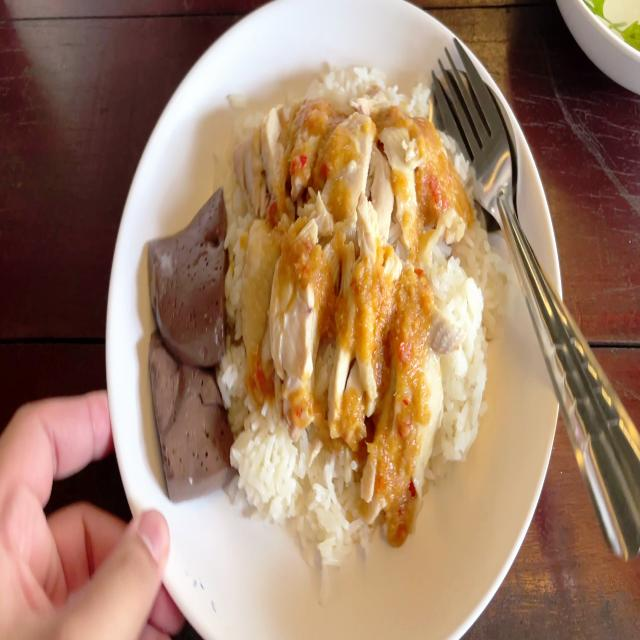boiled_chicken: (249, 100, 447, 467)
boiled_chicken_blood_jelly: (144, 181, 229, 371), (152, 328, 235, 508)
chicken_rice: (146, 68, 498, 597)
